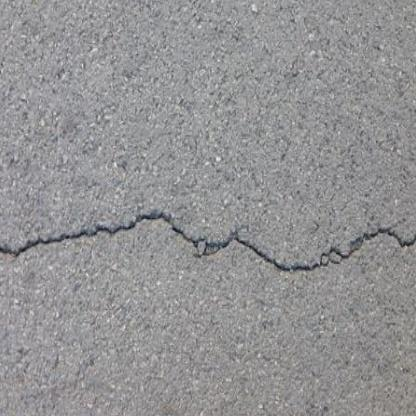Cracks: (0, 177, 416, 305)
